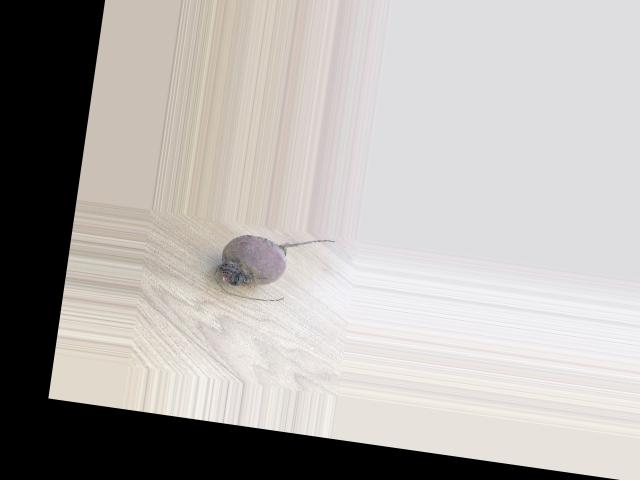beet: (213, 224, 335, 309)
